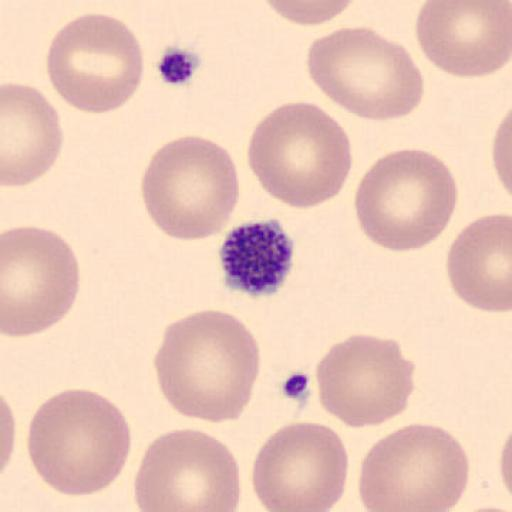Platelet: (216, 216, 297, 298), (154, 41, 204, 89)
RBC: (151, 308, 261, 424), (246, 99, 354, 211), (26, 386, 132, 498), (305, 26, 426, 122), (354, 147, 458, 254), (140, 133, 240, 242), (357, 421, 471, 512), (46, 11, 145, 115), (314, 332, 416, 430), (133, 427, 242, 512), (251, 420, 351, 512), (1, 224, 81, 338), (415, 0, 511, 79), (1, 81, 64, 188), (446, 212, 512, 313), (262, 0, 358, 27), (490, 104, 512, 202), (0, 392, 17, 474), (498, 420, 512, 500), (451, 503, 512, 512)
